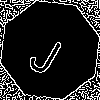J: (25, 25, 70, 78)
